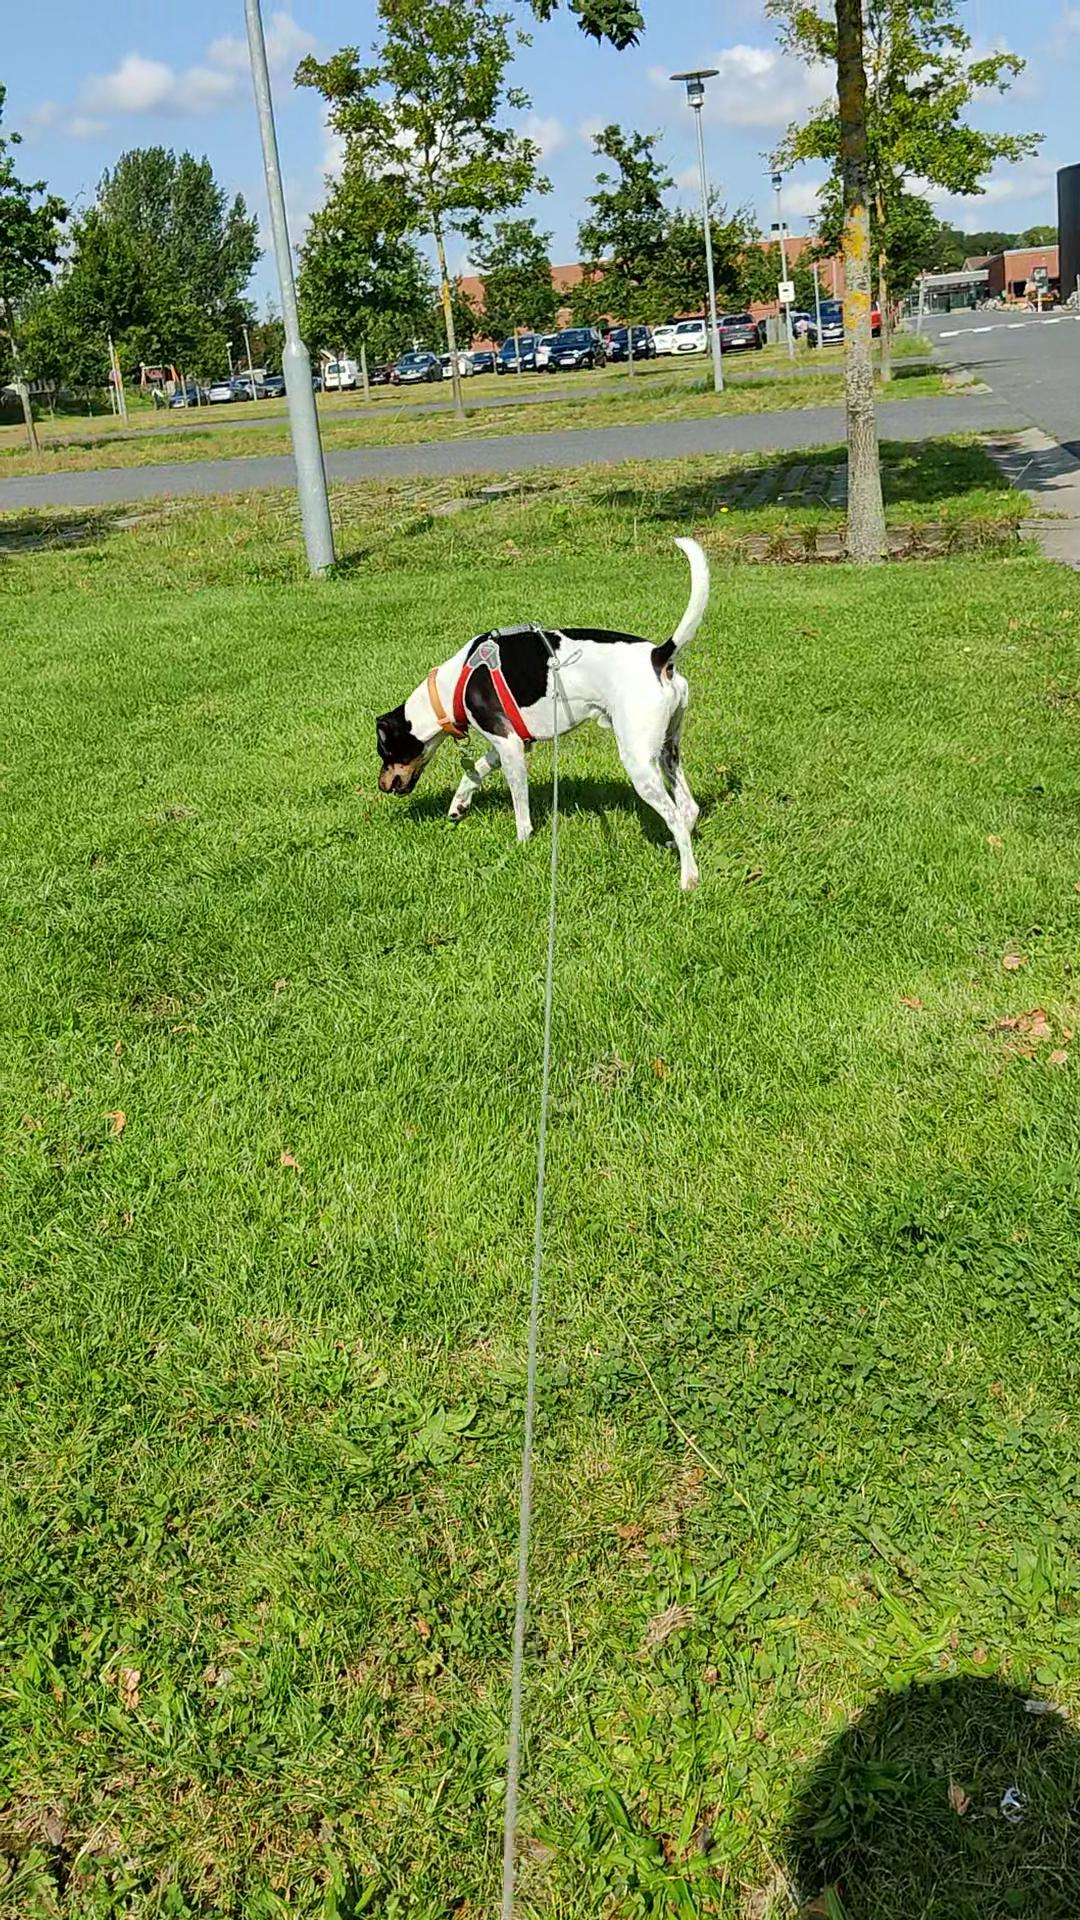Dog: (364, 525, 721, 901)
